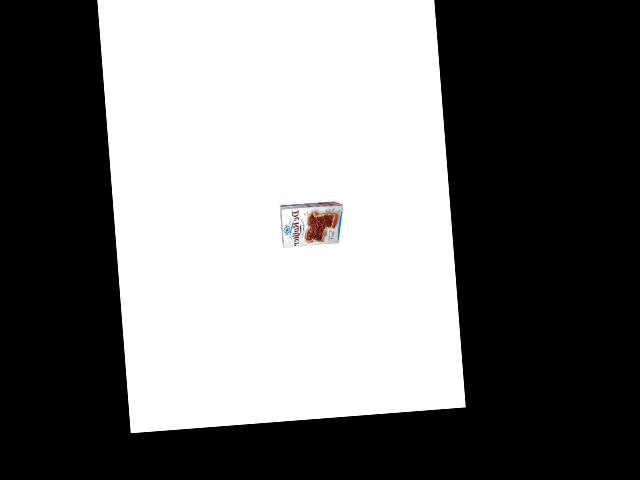chocolate: (275, 194, 344, 253)
